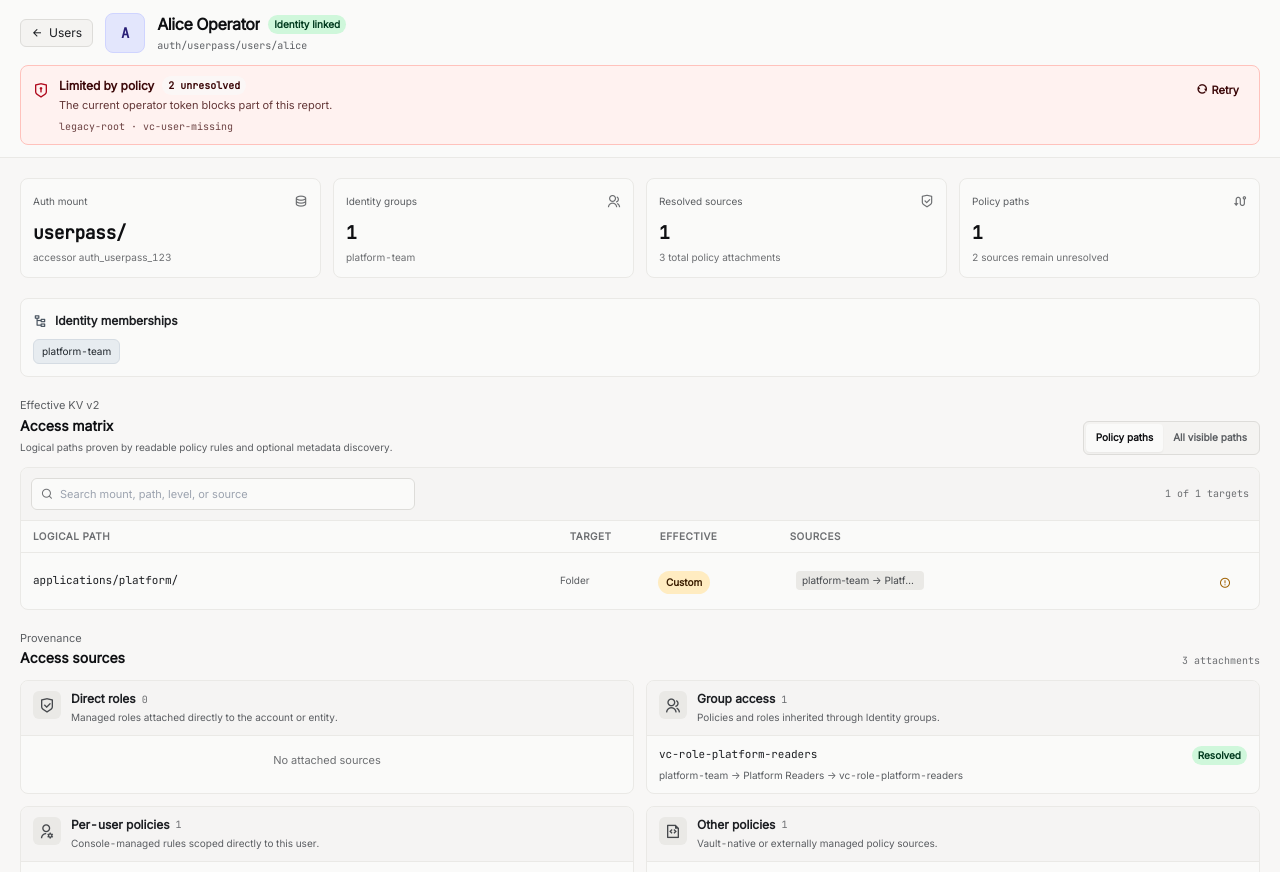
UserProfile › keeps back navigation and technical identity details keyboard reachable
The width and height of the screenshot is (1280, 872).
Click the button with aria-label "Back to users": (57, 32) [20,18,93,46]
(page scrolled)
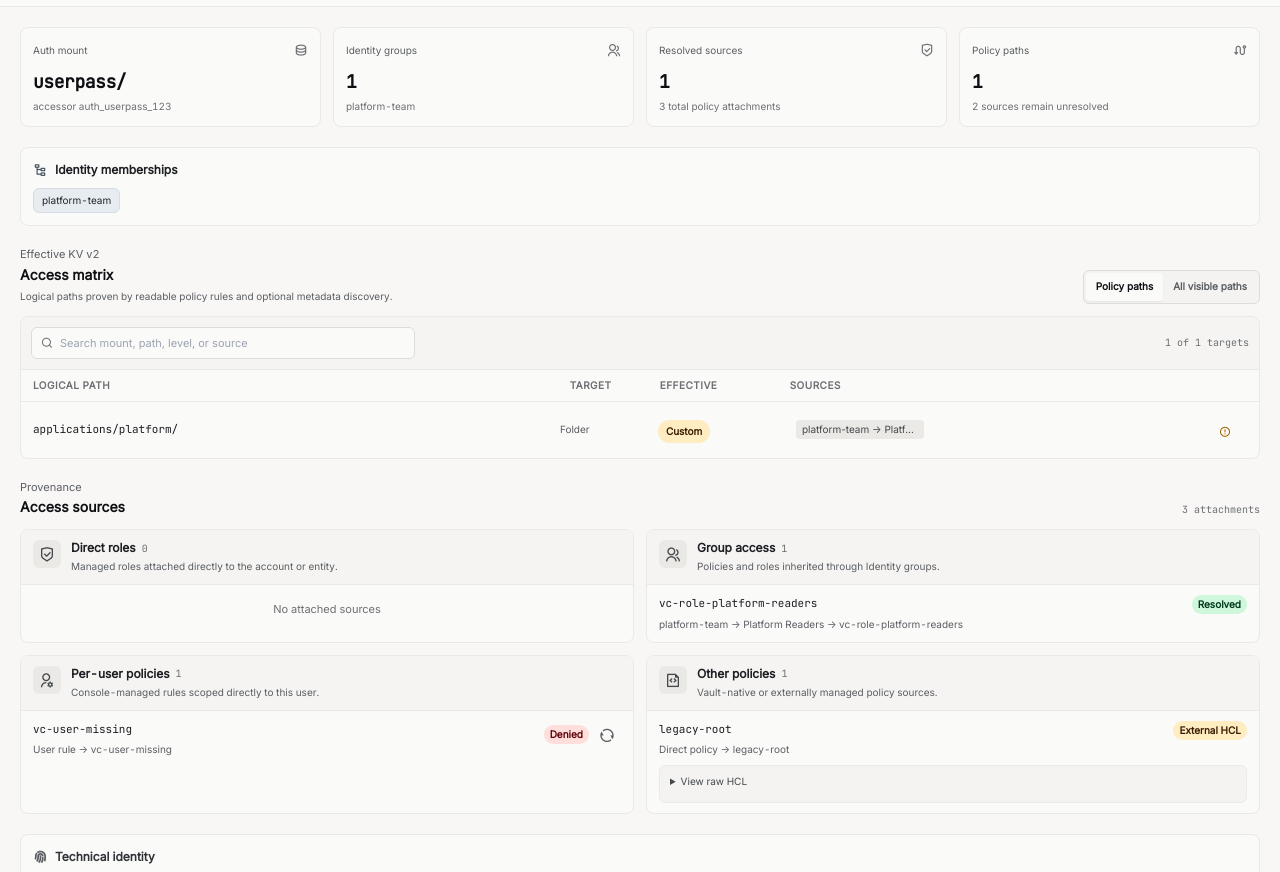
Click the heading "Technical identity": (94, 857) [33,847,155,867]
(page scrolled)
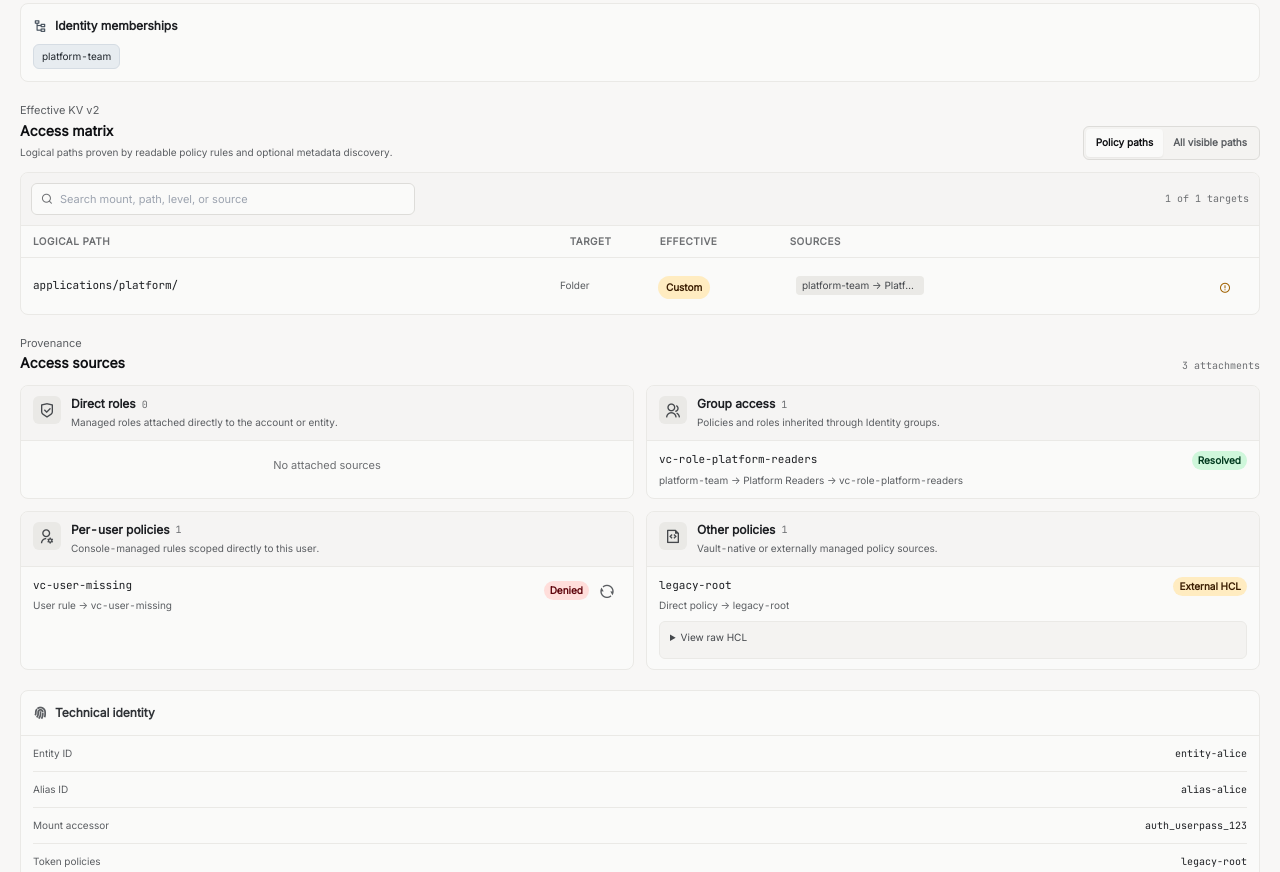
Check: the text "entity-alice" is shown, box [1175,747,1247,760]
Check: the text "alias-alice" is shown, box [1181,783,1247,796]
